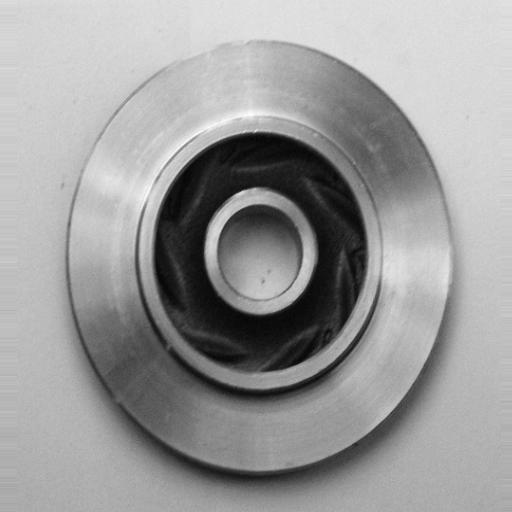scratch: (159, 29, 260, 75), (193, 108, 286, 145)
unpolished_casting: (67, 35, 460, 478)
